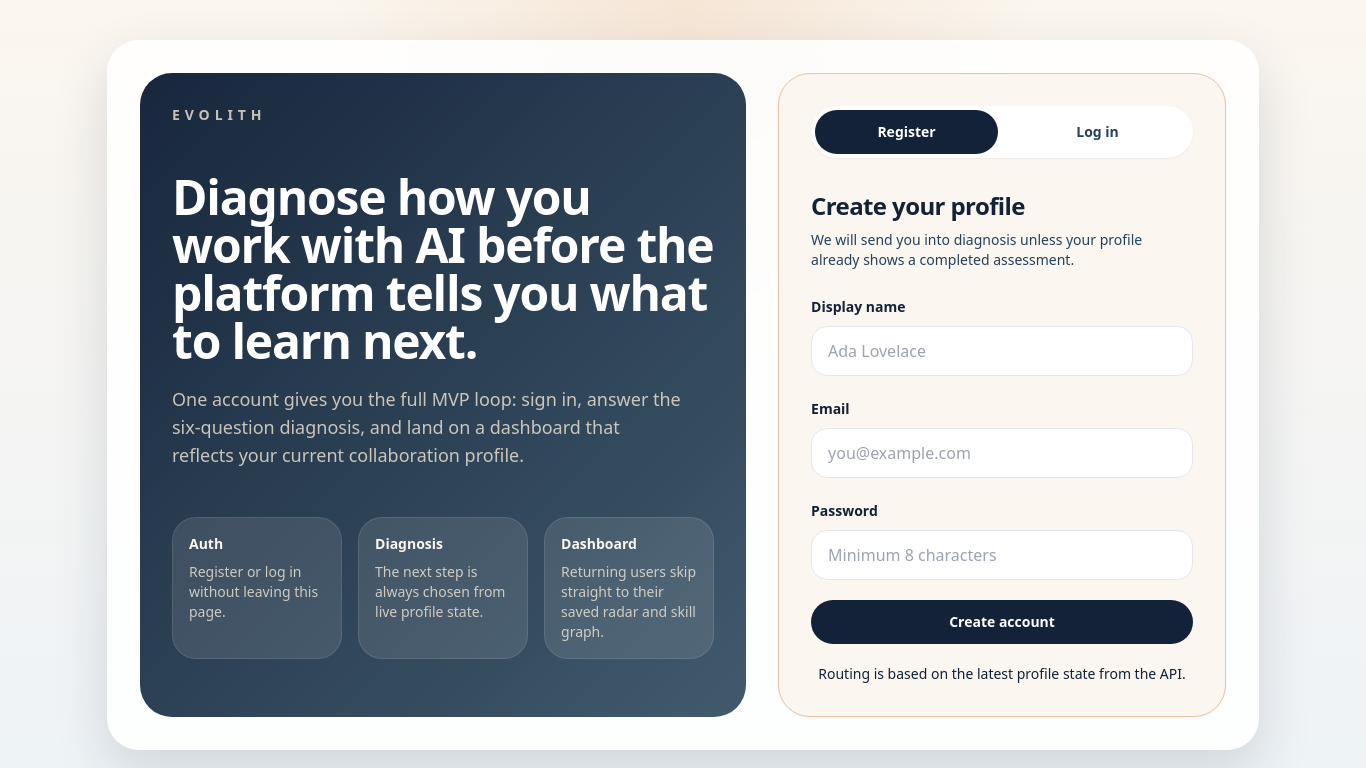
AuthPage › shows error when getProfile fails with a network error after login
Click the button "Log in" at (1098, 132), box [1006, 110, 1189, 154]
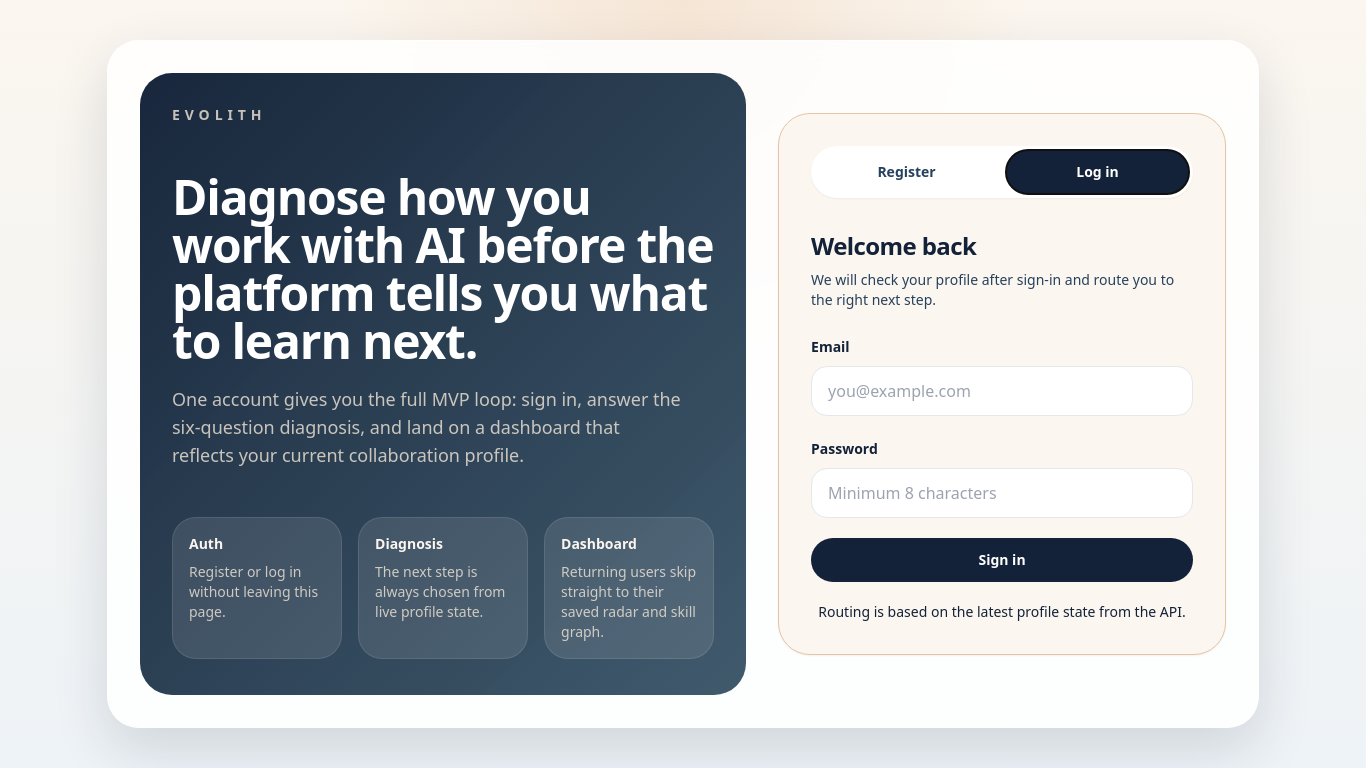
Type "ada@example.com" into the field labelled "Email" at (1002, 391), box [811, 366, 1193, 416]
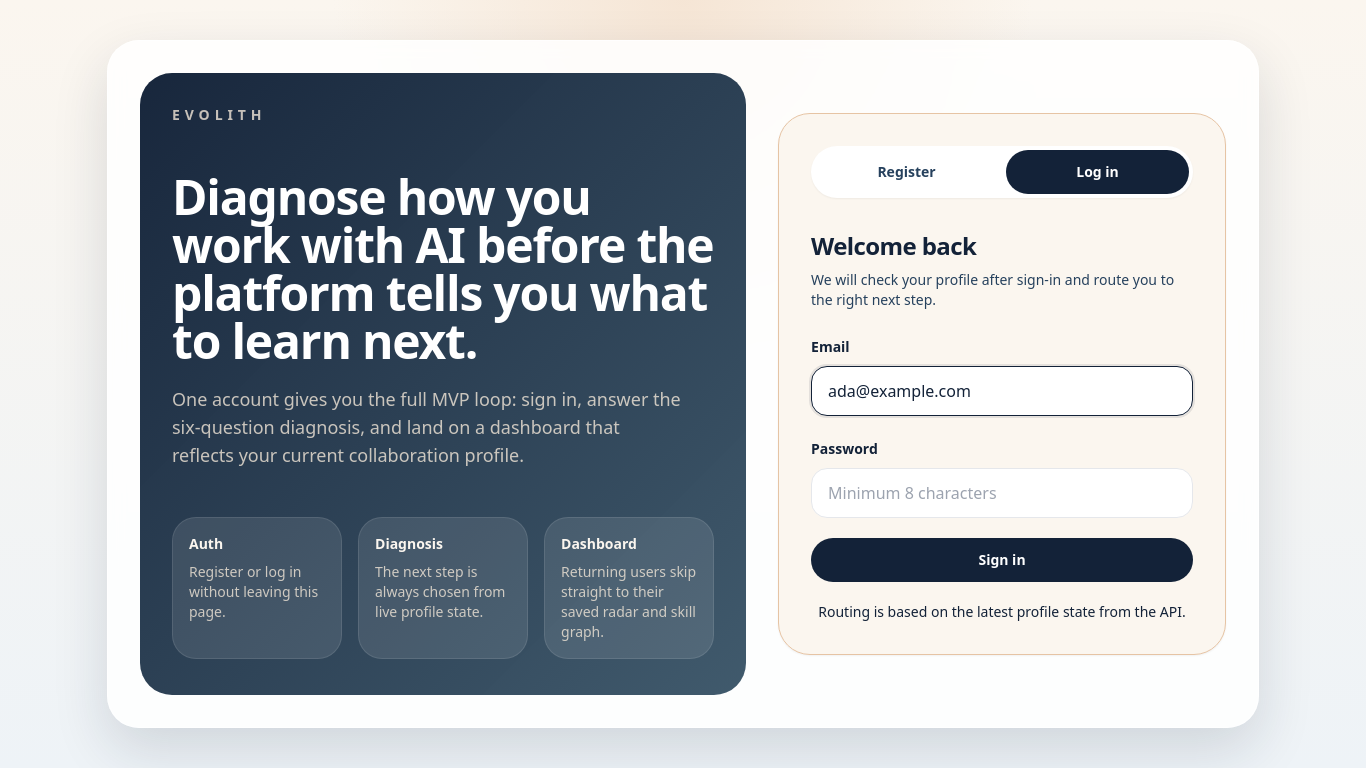
Type "password123" into the password field labelled "Password" at (1002, 493), box [811, 468, 1193, 518]
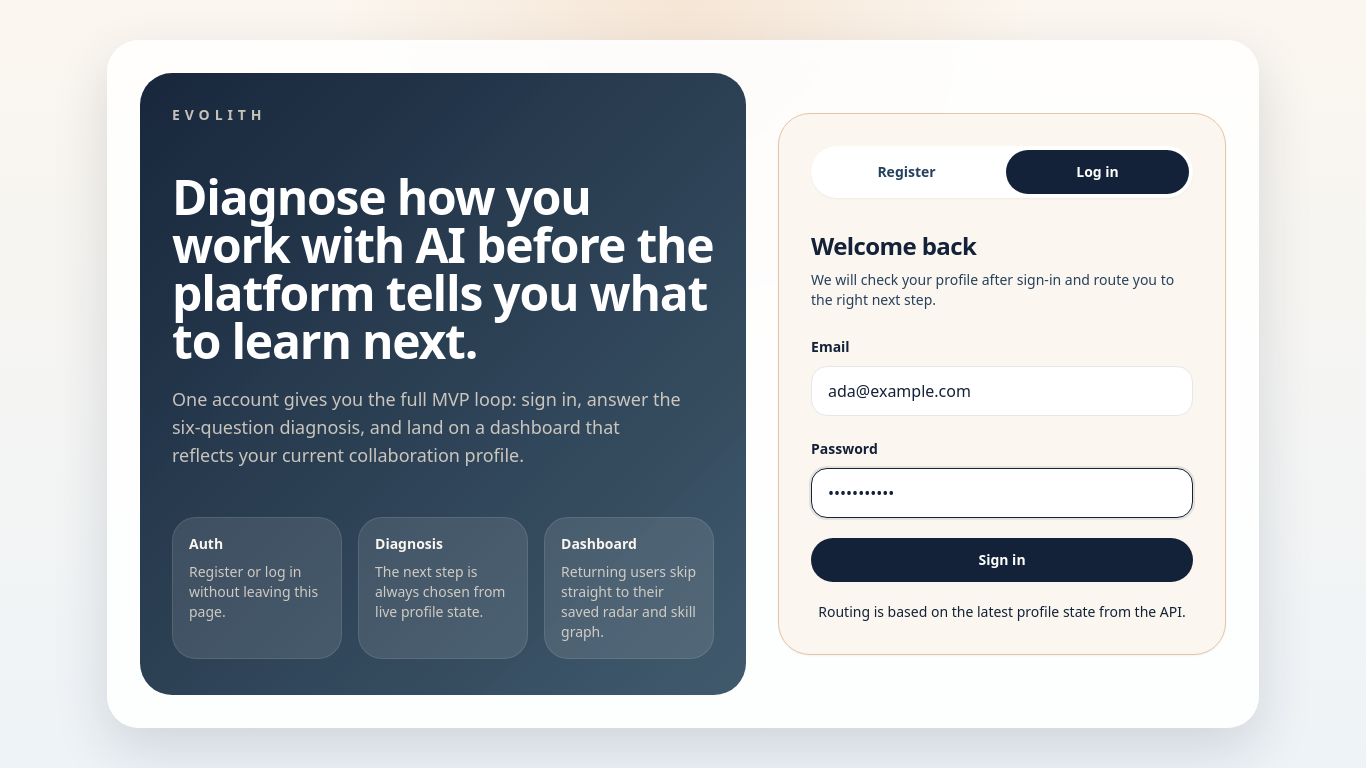
Click the button "Sign in" at (1002, 560), box [811, 538, 1193, 582]
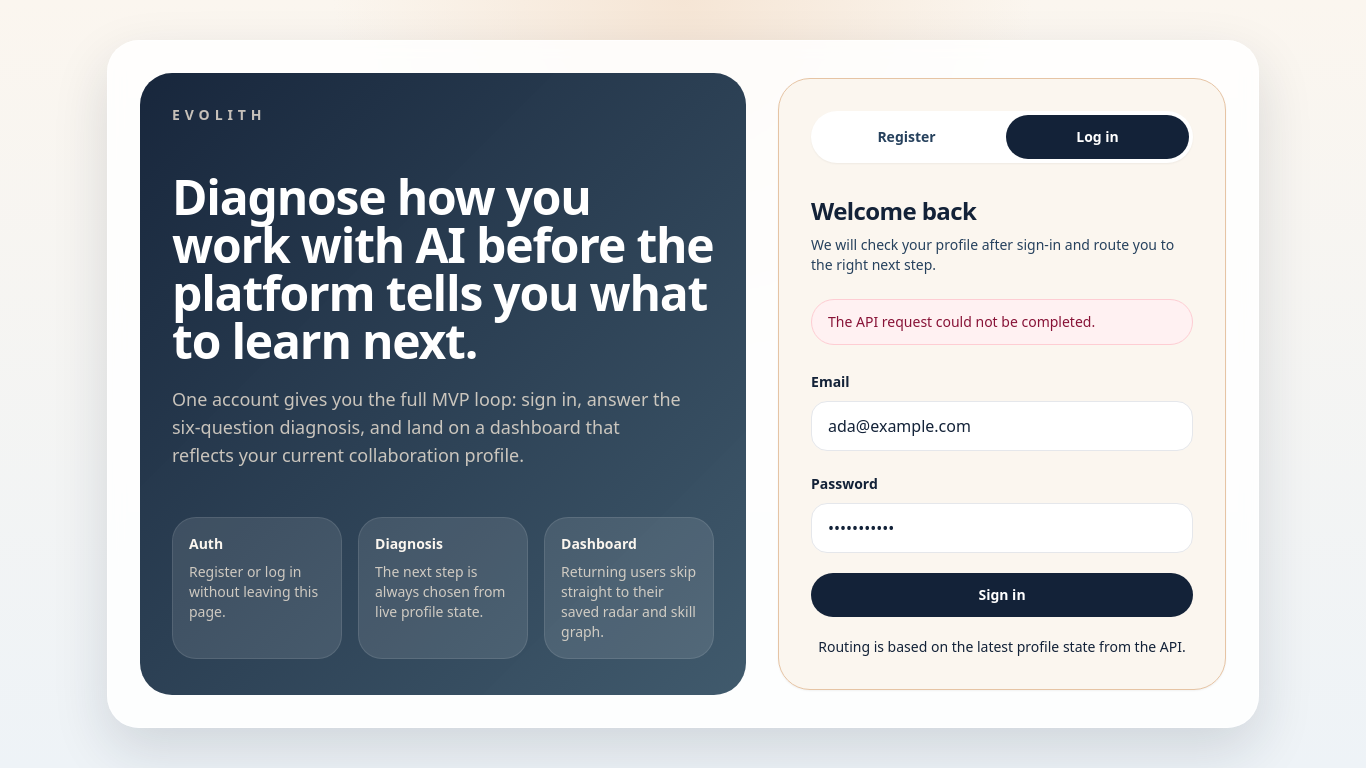
Expected: the message reads "The API request could not be completed.", [828, 312, 1095, 331]
